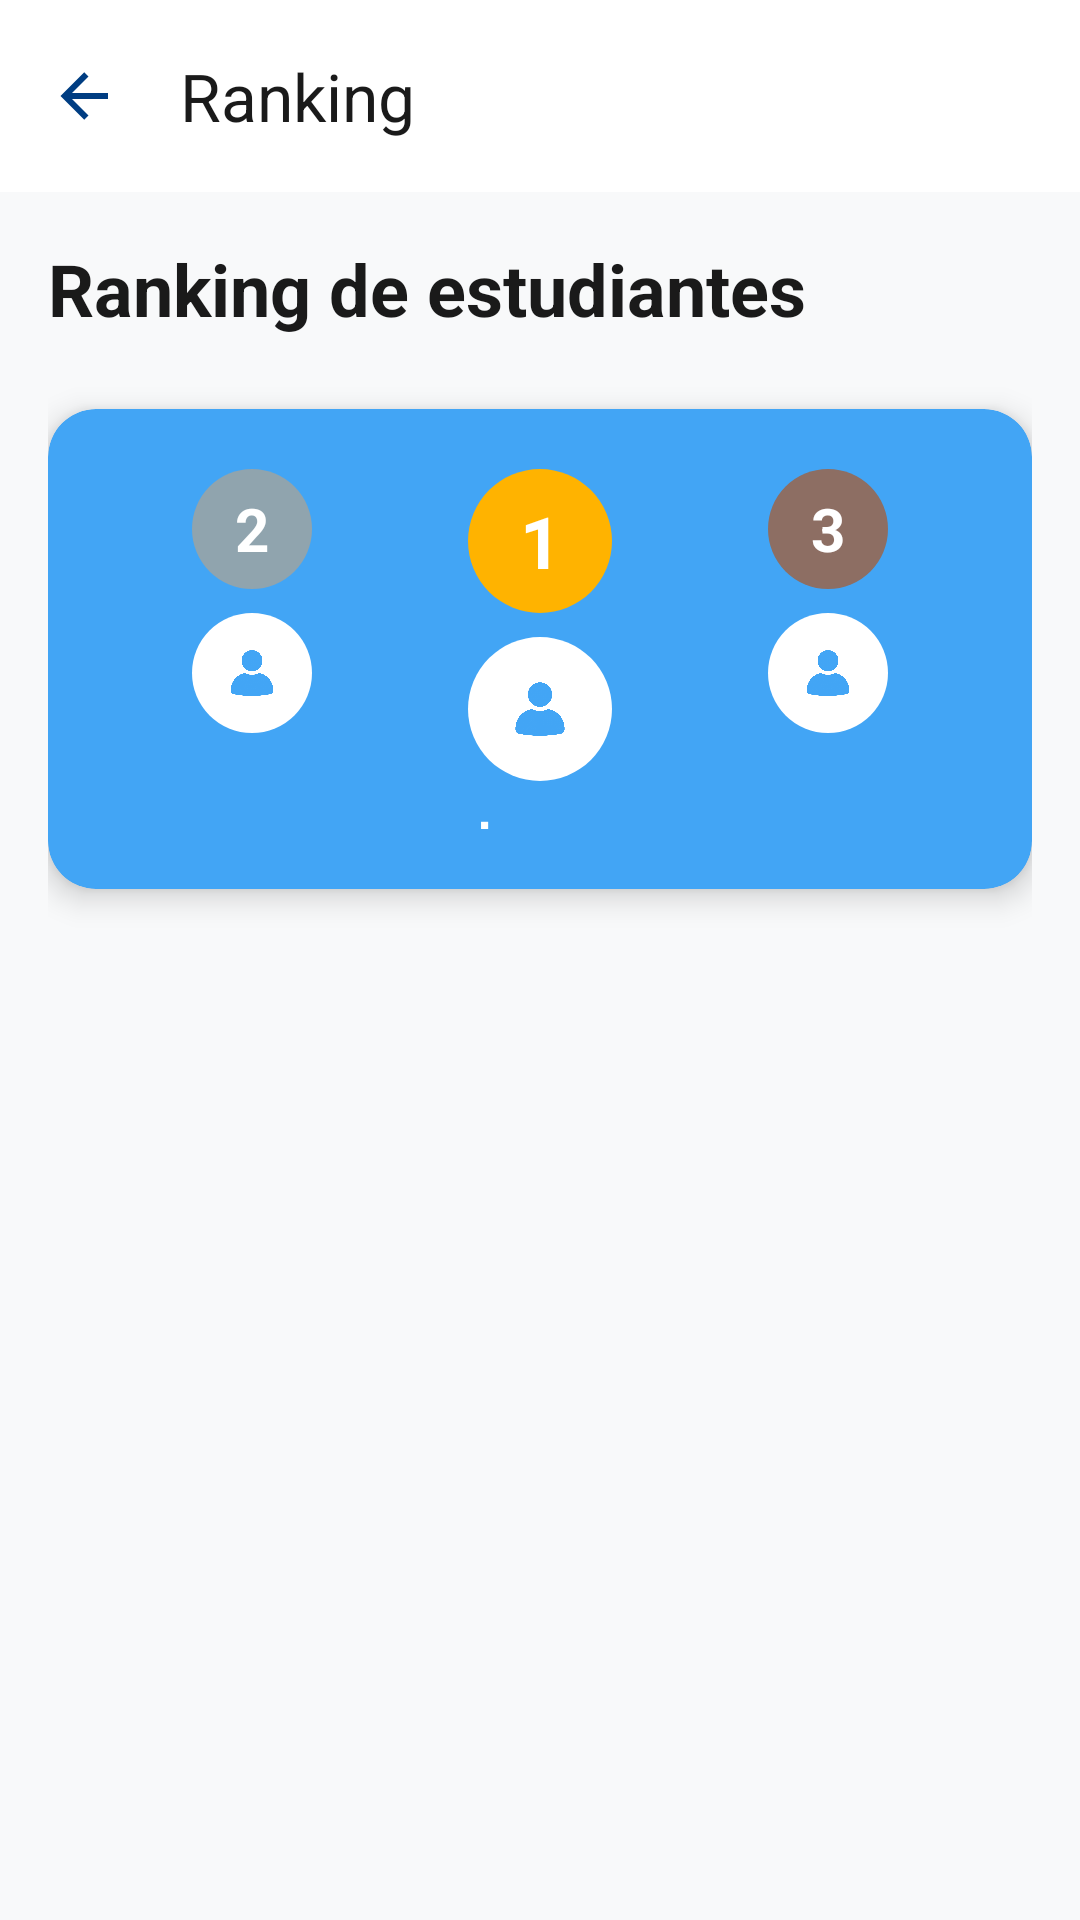

Screen size 1080px x 1920px. Icon name, then its center in pixels as (x,y):
person: (252,673), (828,673), (540,709)
